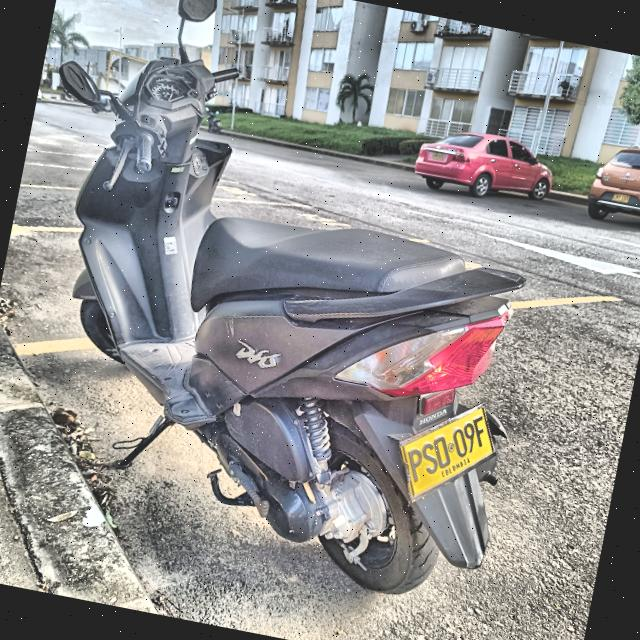0: (450, 424, 468, 460)
9: (461, 421, 477, 454)
F: (472, 413, 489, 450)
O: (432, 435, 452, 470)
P: (406, 447, 423, 484)
S: (420, 439, 440, 479)
